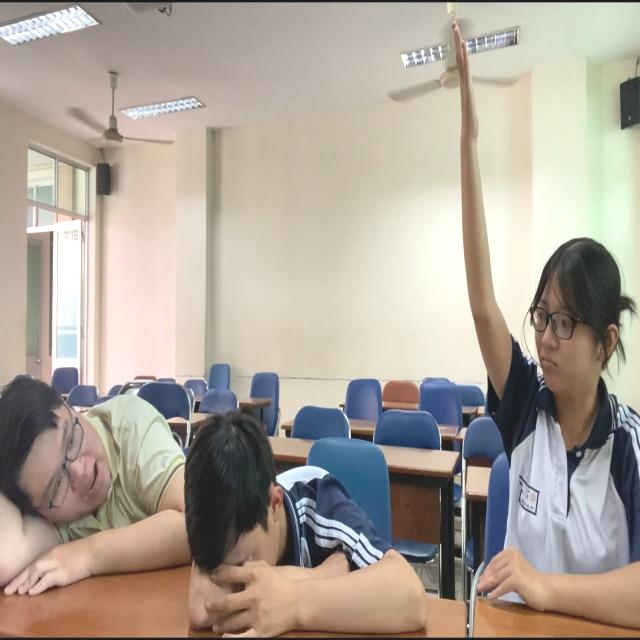raise_hand: (432, 14, 640, 640)
sleep: (148, 358, 434, 640)
